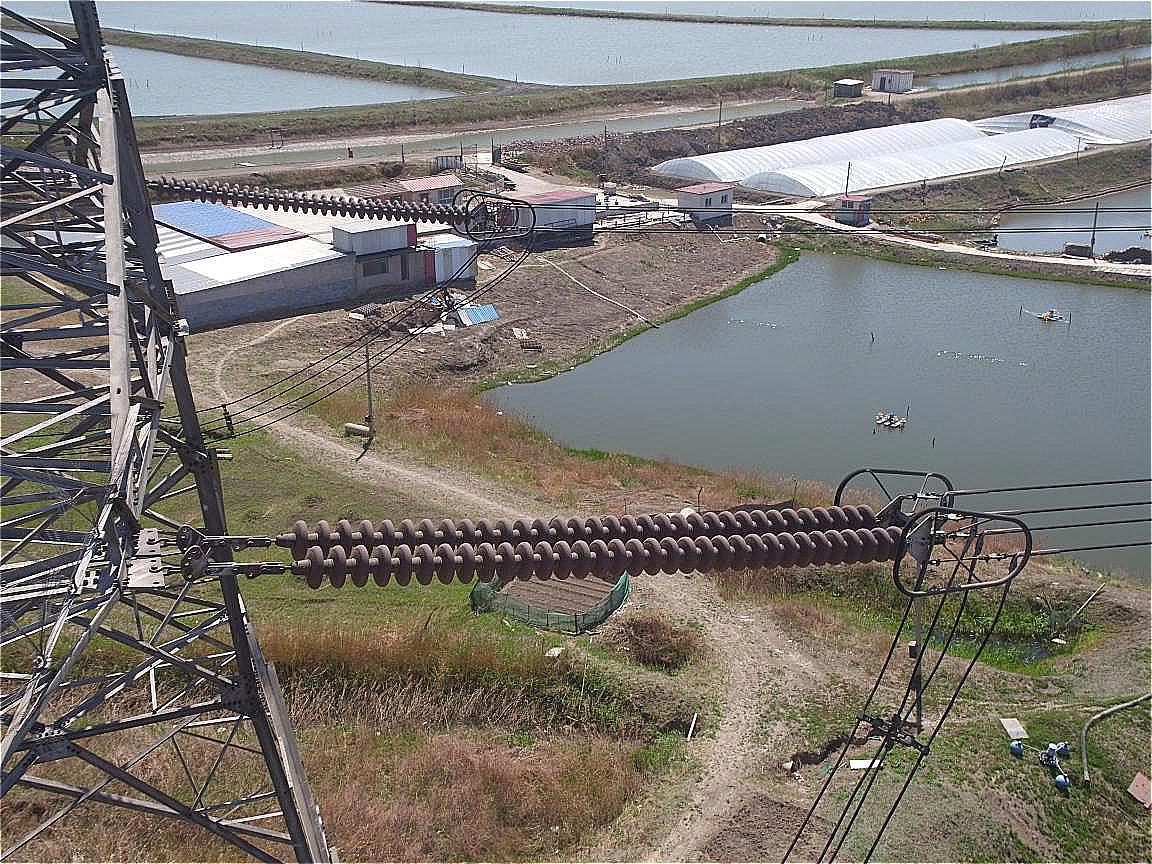insultor1: (277, 489, 911, 599), (147, 160, 500, 236)
